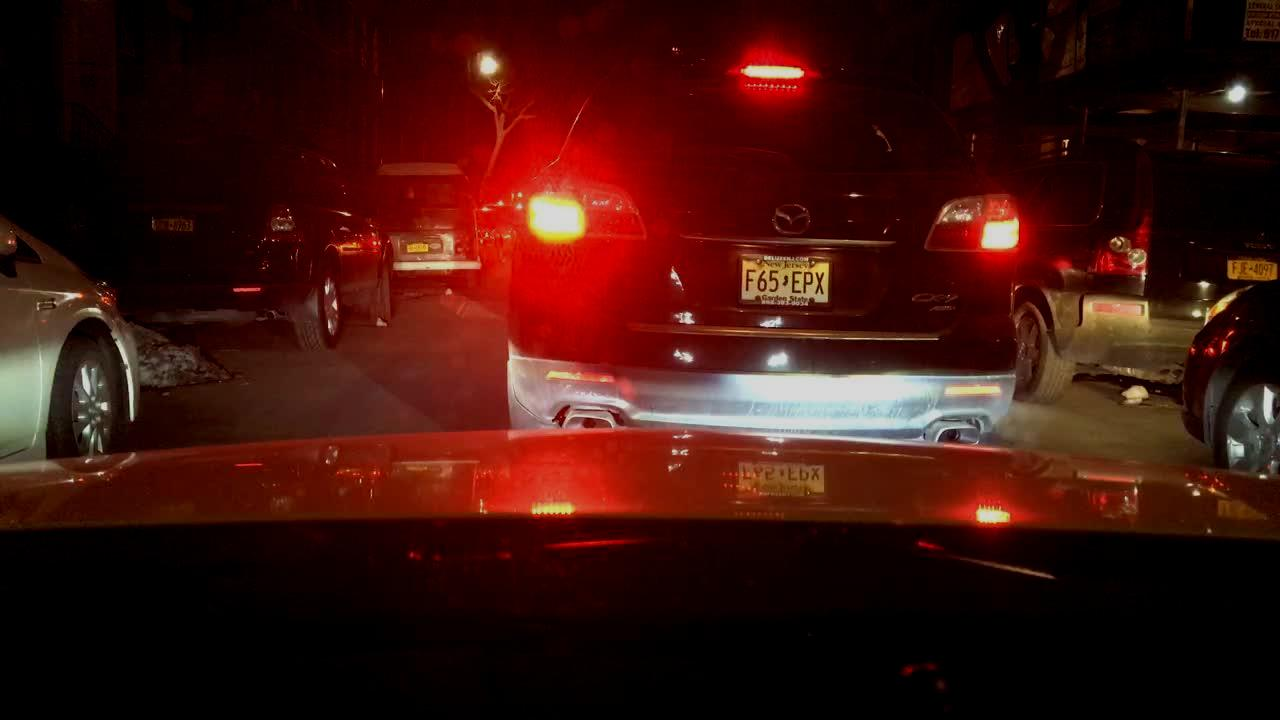Mazda: (770, 201, 816, 238)
